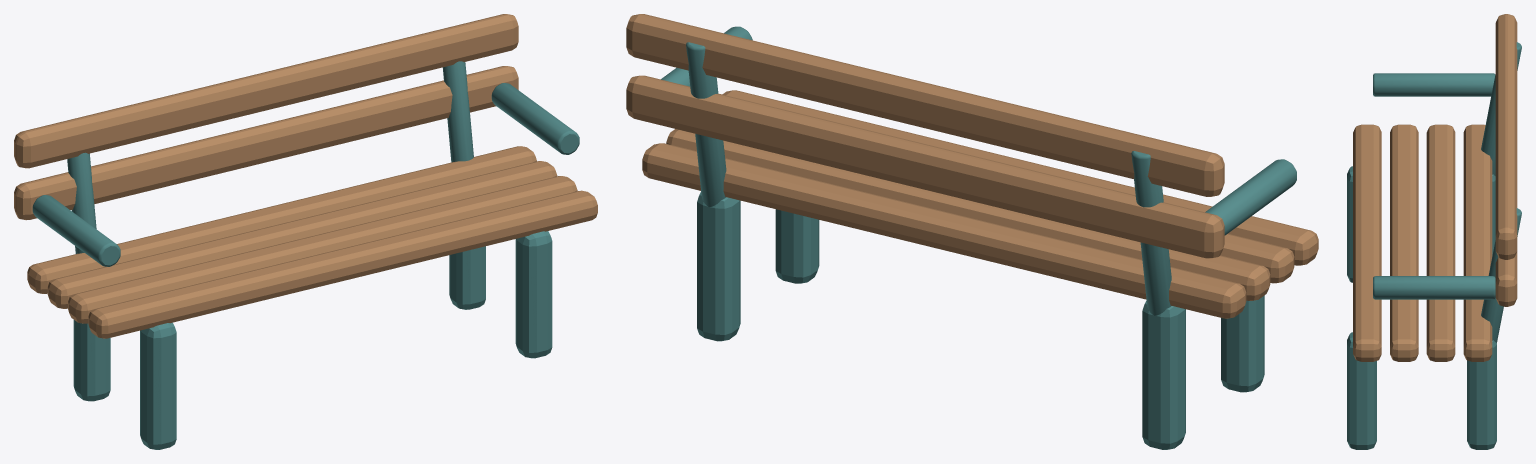
File: bench.glb
3 views of the same model, side by side, from view 1: azimuth 30°, elevation 25°; view 2: azimuth 150°, elevation 25°; view 3: azimuth 270°, elevation 25° (orthographic). The views are drawn at different scales.
Visible parts, largest first — view 1: bench; view 2: bench; view 3: bench.
Part boxes in pixels (x1,y1,x2,y2): bench: (14,14,597,449); bench: (626,14,1318,449); bench: (1347,14,1521,449).
Size of the model in its own units: 1.92 by 0.985 by 0.6416.
